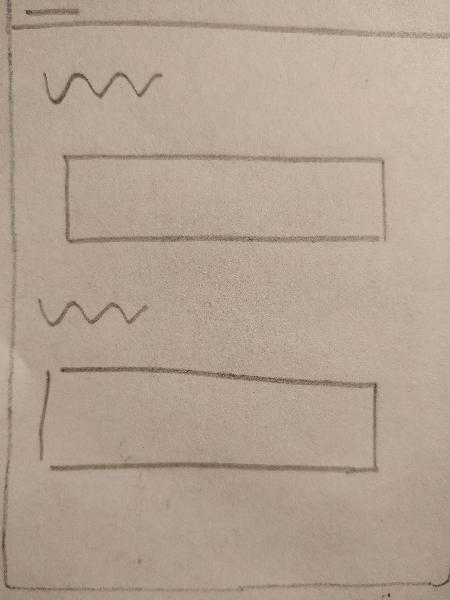text: (34, 59, 166, 112), (26, 286, 158, 339)
text_input: (34, 359, 385, 479), (56, 143, 392, 253)
